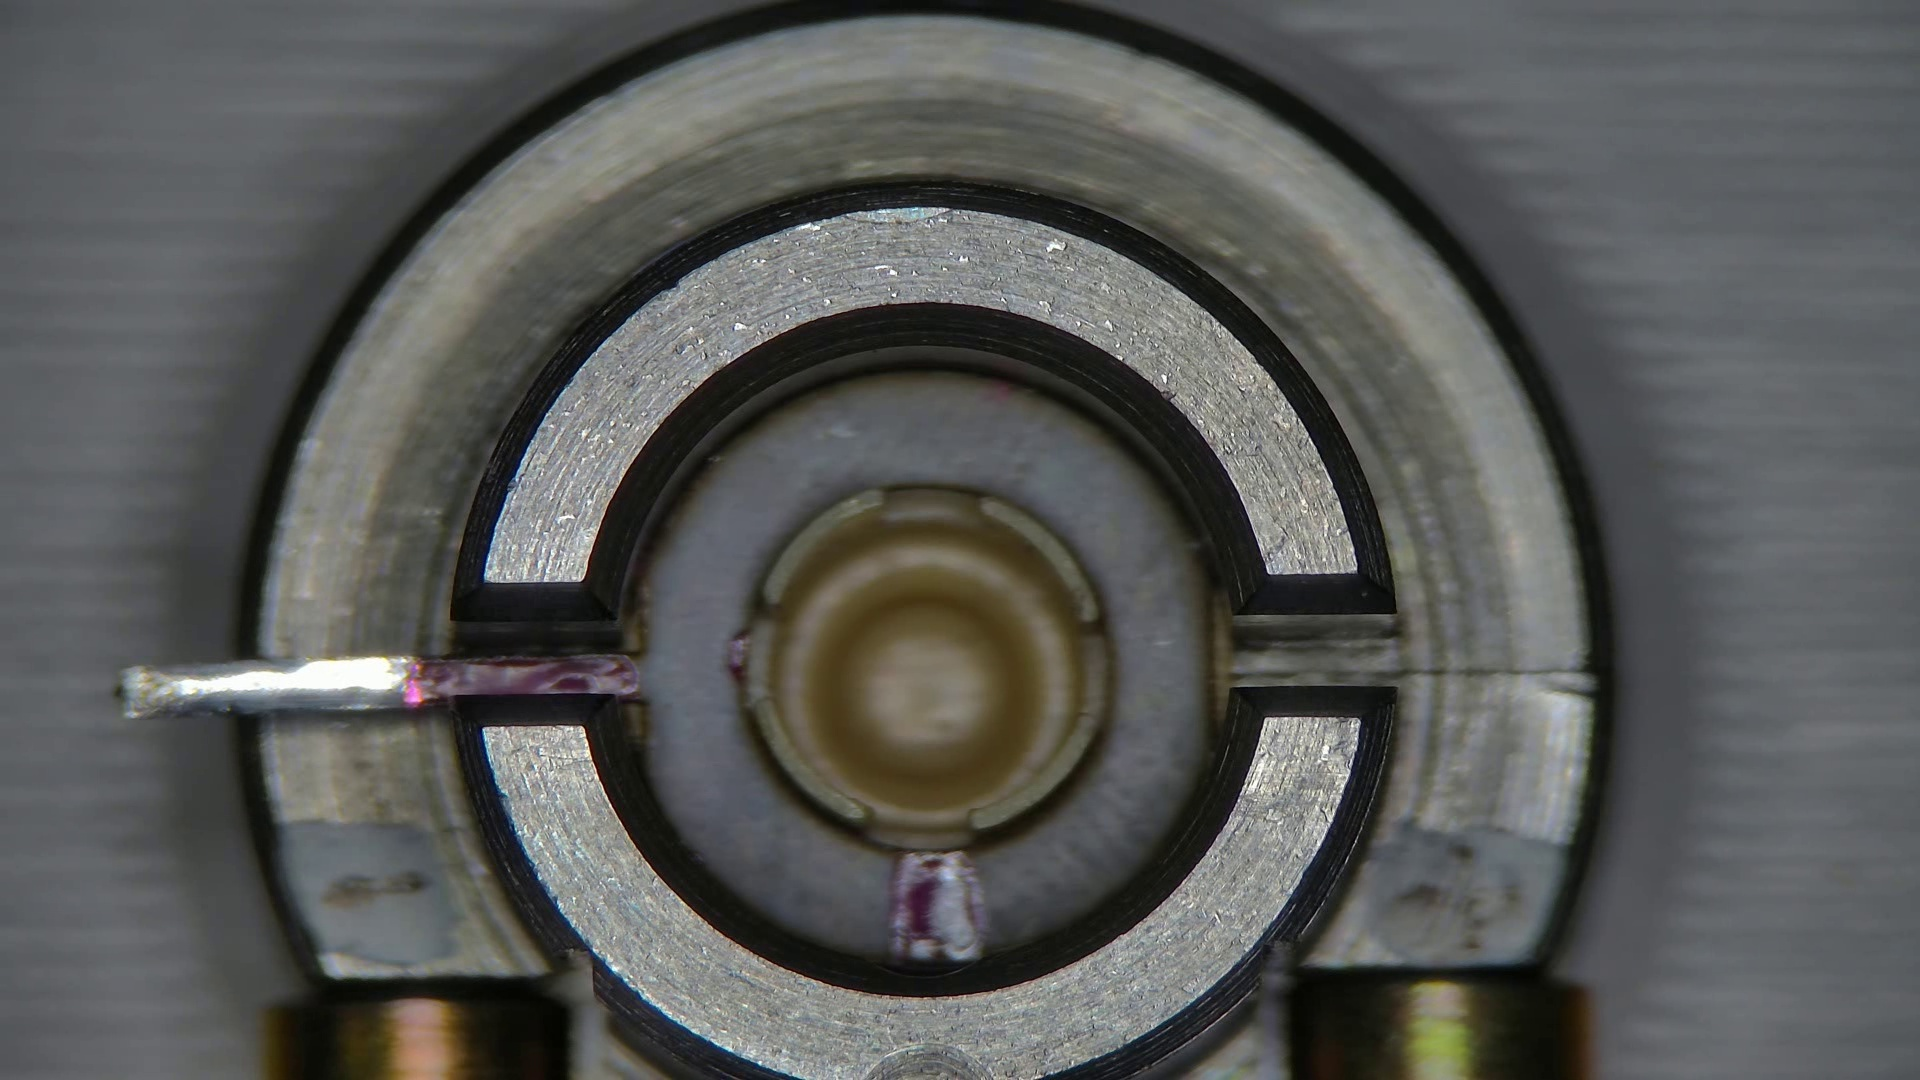YellowOring: (644, 372, 1209, 963)
